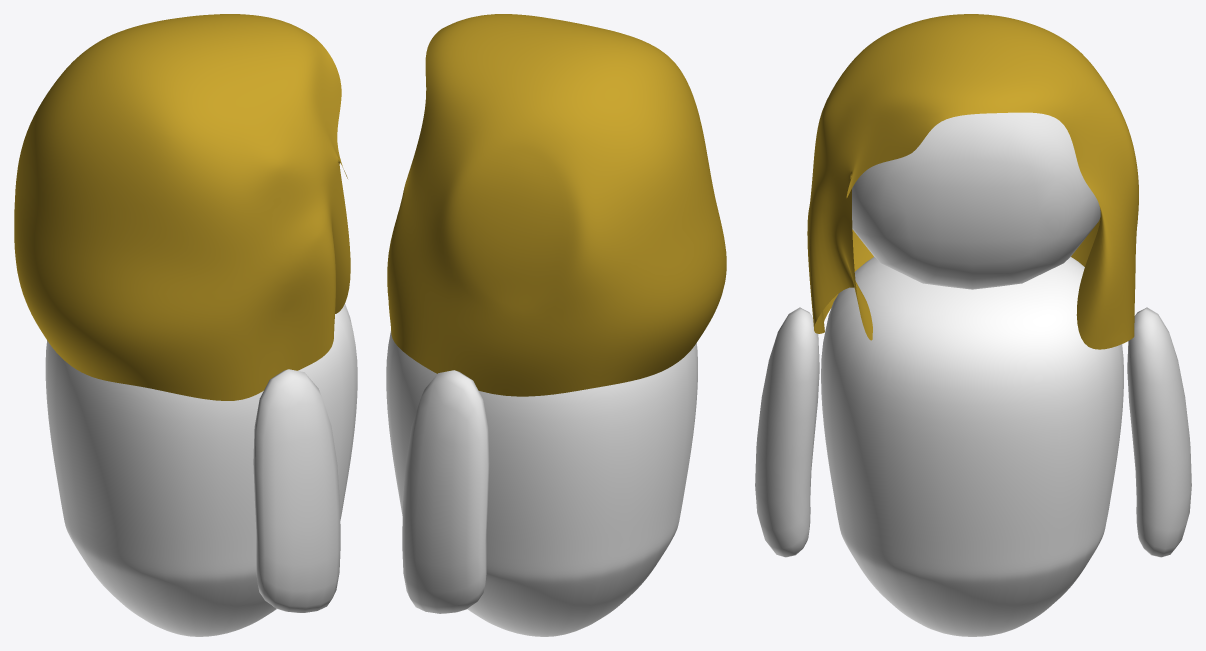
File: robot.dae
The picture shows the model from 3 angles, left to right: view 1: azimuth 30°, elevation 25°; view 2: azimuth 150°, elevation 25°; view 3: azimuth 270°, elevation 25°; orthographic projection.
Visible parts, largest first — view 1: Head.001, Body, Arms; view 2: Head.001, Body, Arms; view 3: Body, Head.001, Head, Arms.
Boxes of the visible parts, box(x1,y1,x2,y2) form: Head.001: box(14, 14, 350, 400); Body: box(45, 304, 357, 636); Arms: box(253, 369, 340, 612); Head.001: box(387, 14, 726, 396); Body: box(386, 331, 697, 636); Arms: box(402, 370, 489, 613); Body: box(821, 257, 1123, 636); Head.001: box(807, 14, 1138, 349); Head: box(852, 112, 1100, 289); Arms: box(755, 307, 1191, 557).
Size of the model in its own units: 2.28 by 2.97 by 4.4.
Materials: 4 (1 with a texture image).
